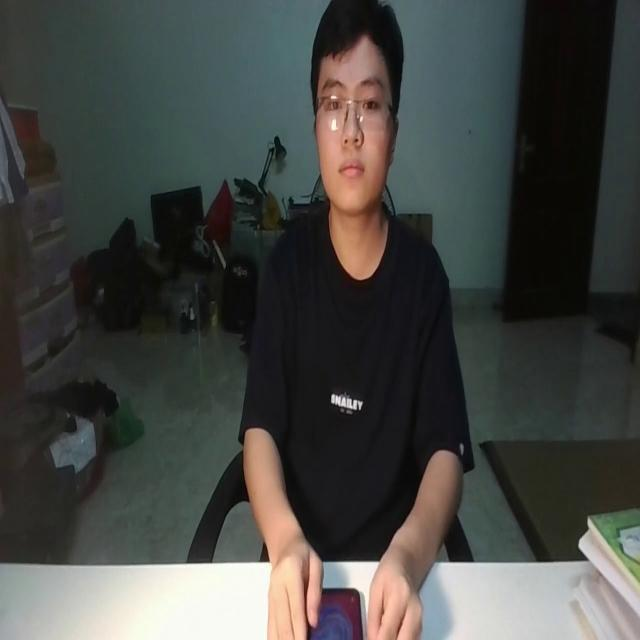phone: (308, 584, 362, 640)
student: (236, 0, 475, 636)
